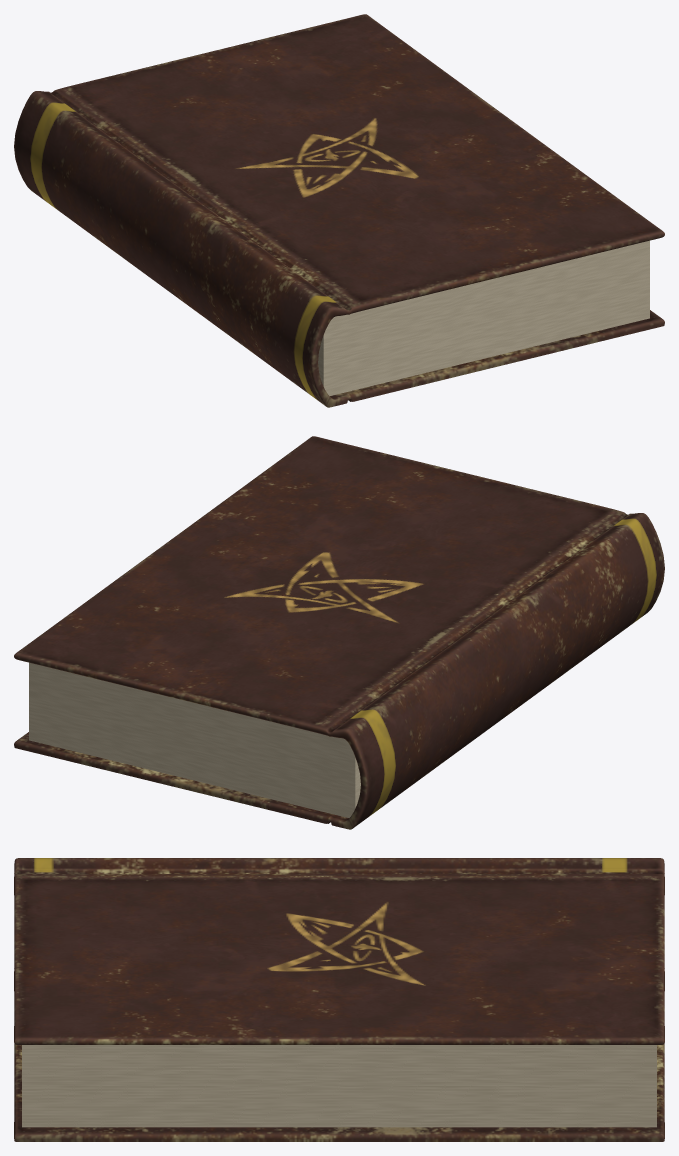
File: book-realistic-web.glb
3 views of the same model, one above another, from view 1: azimuth 30°, elevation 25°; view 2: azimuth 150°, elevation 25°; view 3: azimuth 270°, elevation 25° (orthographic). The views are drawn at different scales.
Visible parts, largest first — view 1: Closed_Book_Cover_Spine, Closed_Book_Page_Blocks; view 2: Closed_Book_Cover_Spine, Closed_Book_Page_Blocks; view 3: Closed_Book_Cover_Spine, Closed_Book_Page_Blocks.
Boxes of the visible parts, left/top/right/bottom form: Closed_Book_Cover_Spine: left=14, top=14, right=664, bottom=407; Closed_Book_Page_Blocks: left=318, top=240, right=649, bottom=395; Closed_Book_Cover_Spine: left=14, top=436, right=664, bottom=829; Closed_Book_Page_Blocks: left=29, top=662, right=360, bottom=817; Closed_Book_Cover_Spine: left=14, top=858, right=664, bottom=1141; Closed_Book_Page_Blocks: left=22, top=1045, right=656, bottom=1127.
Bounding box in the file's own units: 0.1773 × 0.0471 × 0.2595.
Materials: 3 (3 with a texture image).
